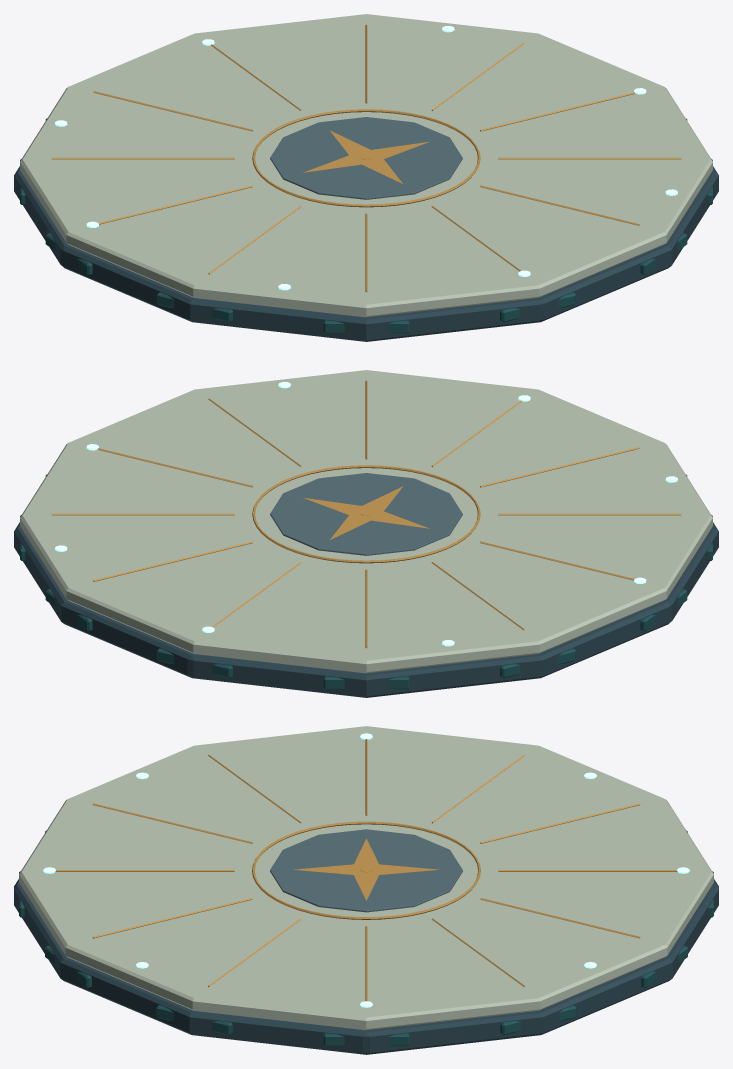
Rendered from platform.glb.
3 renders of one model, top to bottom at view 1: azimuth 30°, elevation 25°; view 2: azimuth 150°, elevation 25°; view 3: azimuth 270°, elevation 25°, orthographic.
Parts seen in each view (by area): view 1: Chamfered pale stone cap, Dodecagonal basalt slab, Slate central medallion, Gold inset compass ring, Fine radial top seam 05, Fine radial top seam 11, Inset teal slab side 08; view 2: Chamfered pale stone cap, Dodecagonal basalt slab, Slate central medallion, Gold inset compass ring, Fine radial top seam 01, Fine radial top seam 07, Inset teal slab side 04; view 3: Chamfered pale stone cap, Dodecagonal basalt slab, Slate central medallion, Gold inset compass ring, Inset teal slab side 00.
Boxes of the visible parts, x1=… form: Chamfered pale stone cap: x1=20, y1=14, x2=712, y2=317; Dodecagonal basalt slab: x1=14, y1=166, x2=718, y2=341; Slate central medallion: x1=270, y1=117, x2=462, y2=199; Gold inset compass ring: x1=252, y1=109, x2=480, y2=207; Fine radial top seam 05: x1=51, y1=157, x2=234, y2=159; Fine radial top seam 11: x1=498, y1=157, x2=681, y2=159; Inset teal slab side 08: x1=323, y1=320, x2=409, y2=333; Chamfered pale stone cap: x1=20, y1=370, x2=712, y2=673; Dodecagonal basalt slab: x1=14, y1=522, x2=718, y2=697; Slate central medallion: x1=270, y1=473, x2=462, y2=555; Gold inset compass ring: x1=252, y1=465, x2=480, y2=563; Fine radial top seam 01: x1=51, y1=513, x2=234, y2=515; Fine radial top seam 07: x1=498, y1=513, x2=681, y2=515; Inset teal slab side 04: x1=323, y1=676, x2=409, y2=689; Chamfered pale stone cap: x1=19, y1=726, x2=713, y2=1030; Dodecagonal basalt slab: x1=14, y1=879, x2=718, y2=1054; Slate central medallion: x1=270, y1=829, x2=462, y2=912; Gold inset compass ring: x1=252, y1=821, x2=480, y2=919; Inset teal slab side 00: x1=323, y1=1033, x2=409, y2=1046.
Bounding box in the file's own units: 5.95 × 0.35 × 5.95.
